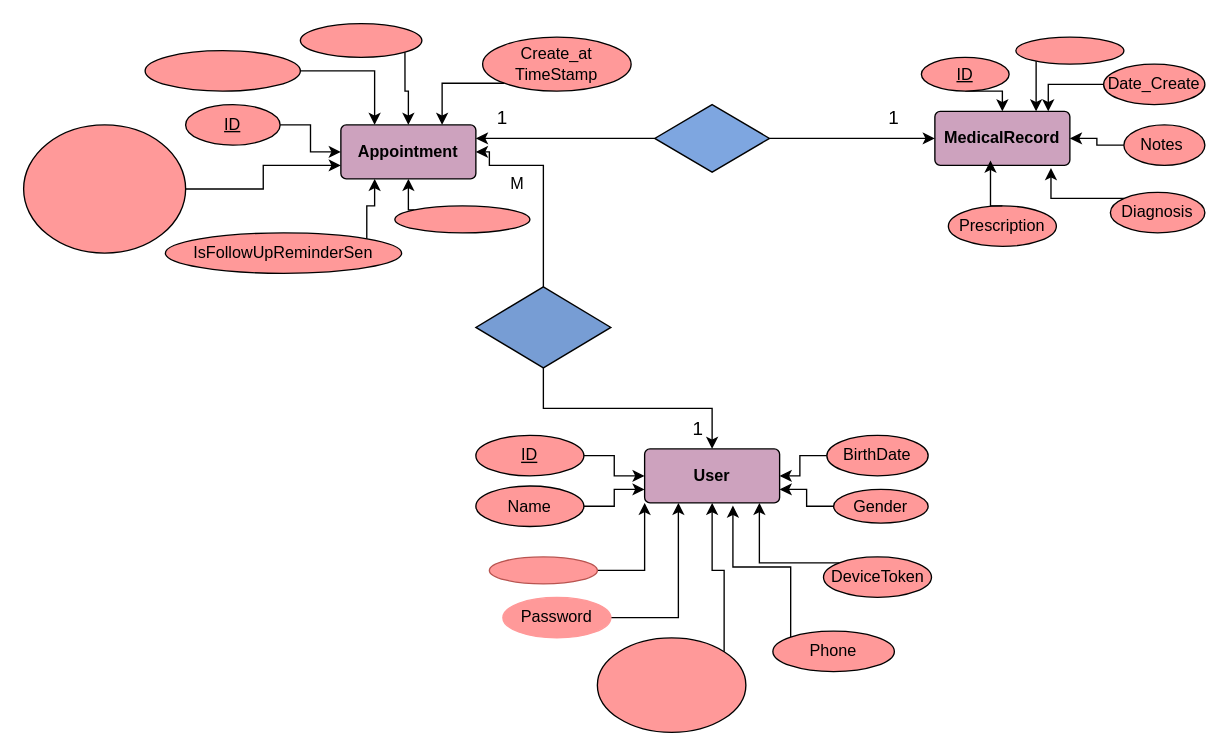
Image size: 1229x756. Some labels were removed from this diagram. The box of each missing label's shape, as (x1, y1, x2, y2) in pixels:
AppointmentDate: (144, 49, 300, 91)
Books (patient): (475, 286, 611, 368)
Email: (488, 556, 597, 584)
ID_Patient: (299, 22, 422, 57)
QueueNumber: (394, 205, 530, 233)
Results_In: (653, 103, 770, 172)
Role: 1-Doctor 2-Admin 3-Patient: (596, 637, 746, 732)
Status: 1-Pending 2-Confirmed 3-Cancelled 4-Completed: (22, 124, 186, 253)
VisitData: (1015, 36, 1124, 64)
